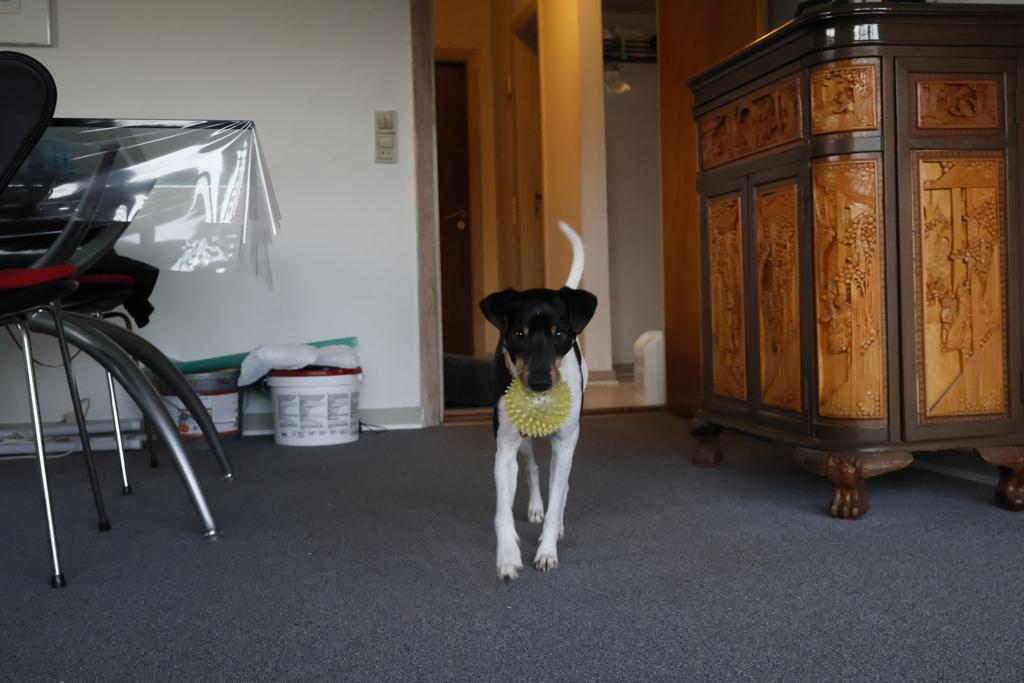Dog: (469, 211, 611, 590)
